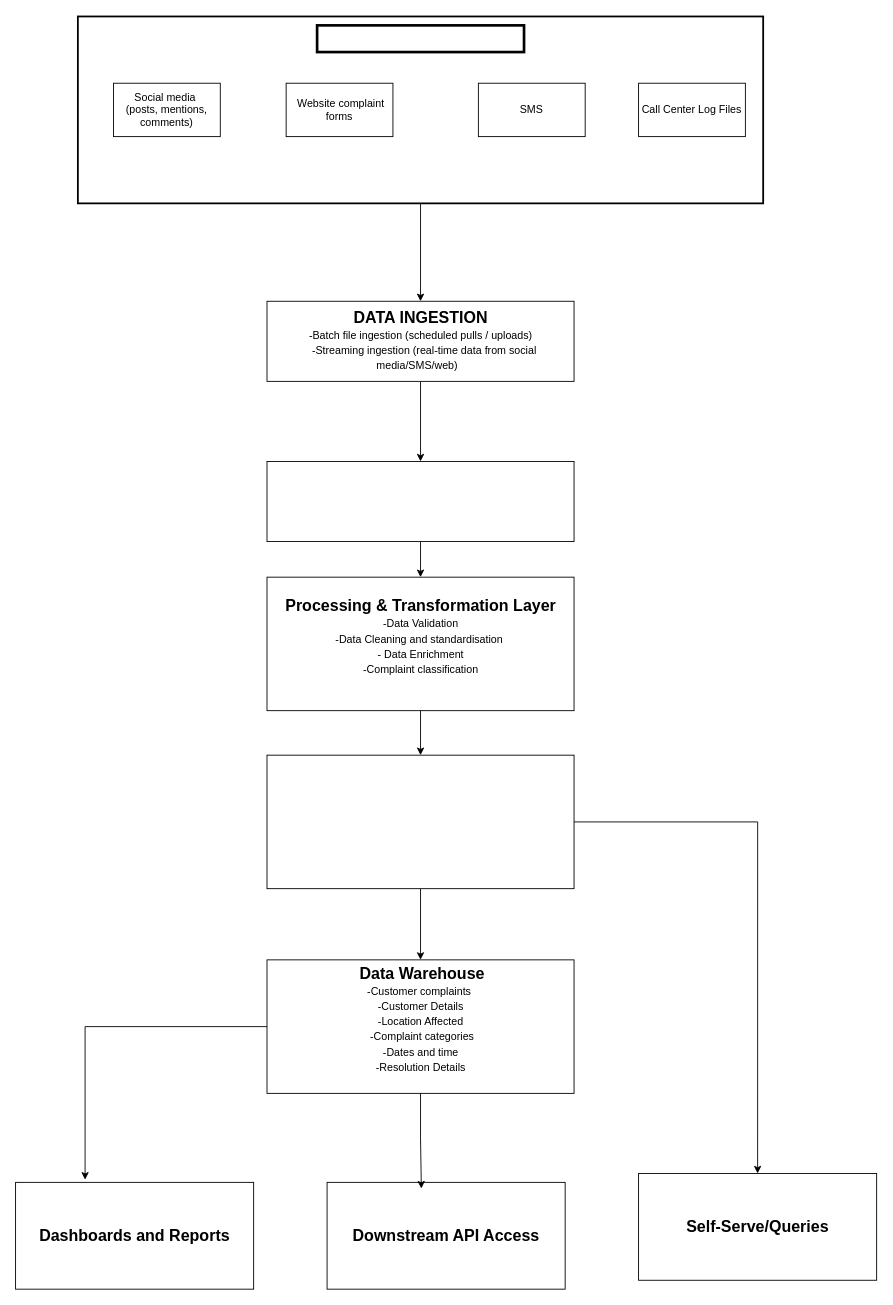
The diagram is 893 pixels wide and 1305 high, and some of its shapes have lost their labels. Each missing label, with the centre of its shape:
"Data Lake -Business-ready datasets" belongs at pixel 420 821.
"Data Sources" belongs at pixel 420 38.
"Raw Data - Raw data Preserved as collected" belongs at pixel 420 501.
